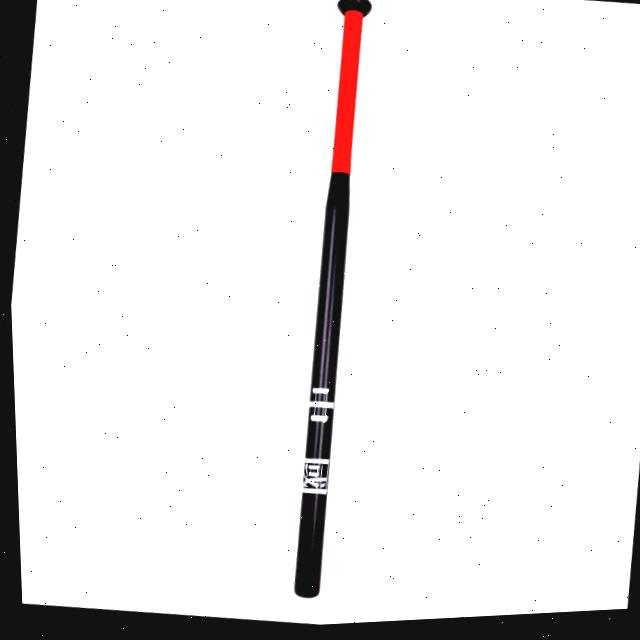baseball bat: (225, 0, 432, 618)
